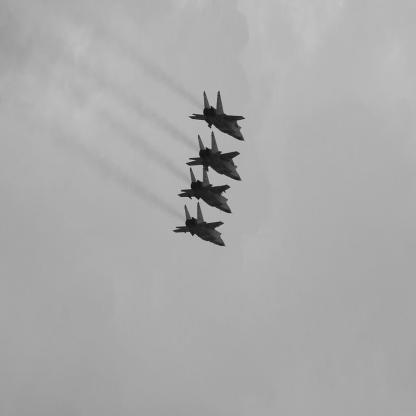Mig31: (190, 91, 248, 143), (187, 132, 245, 183), (178, 167, 234, 216), (173, 202, 228, 248)
